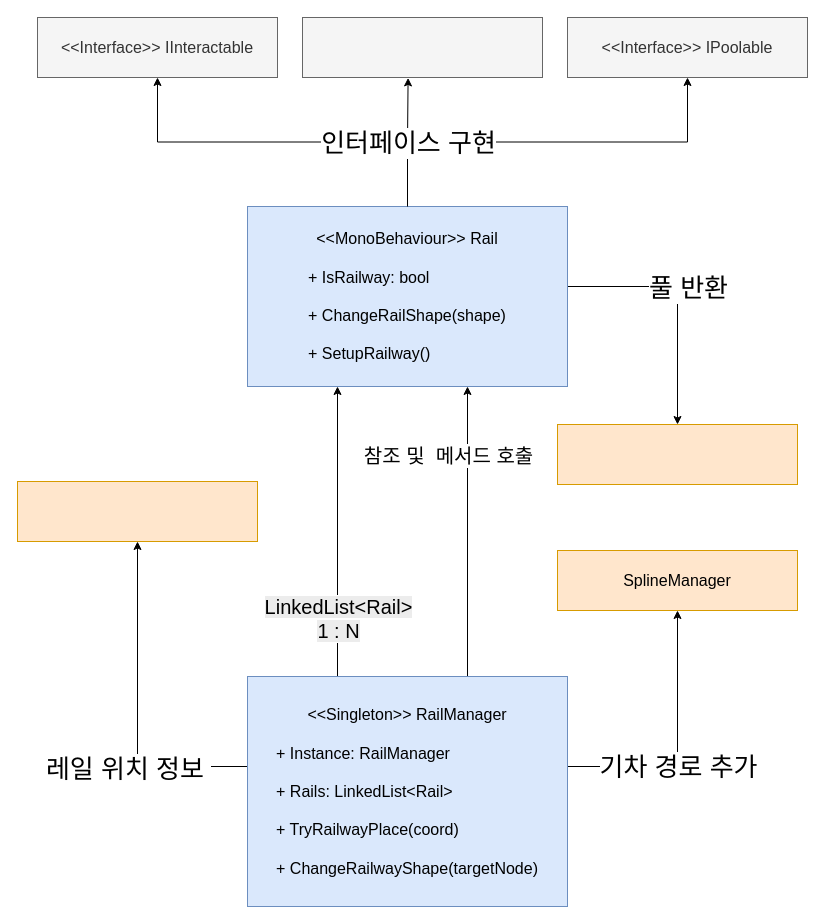
Image size: 825x924. Some labels were removed from this diagram. Each missing label, with the centre of its shape:
"<<Interface>> IStackable" goes at point (422, 47).
"Map" goes at point (137, 511).
"ObjectPool" goes at point (677, 454).
